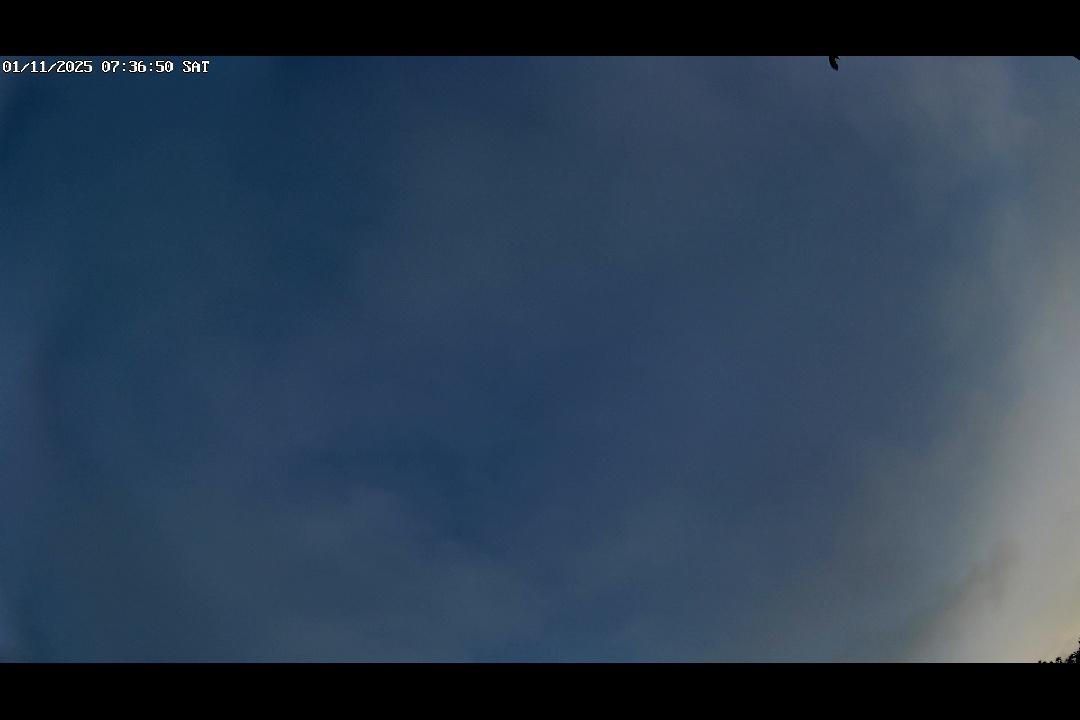WildLife: (820, 57, 850, 79)
